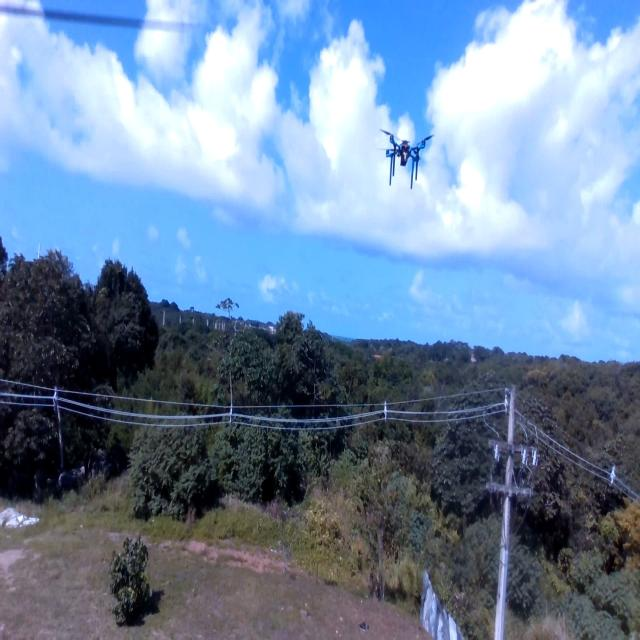-uav-: (372, 112, 436, 196)
